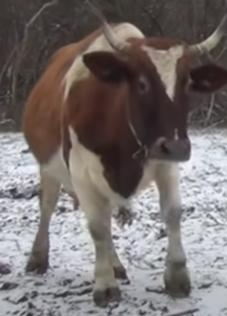cow: (22, 0, 227, 308)
